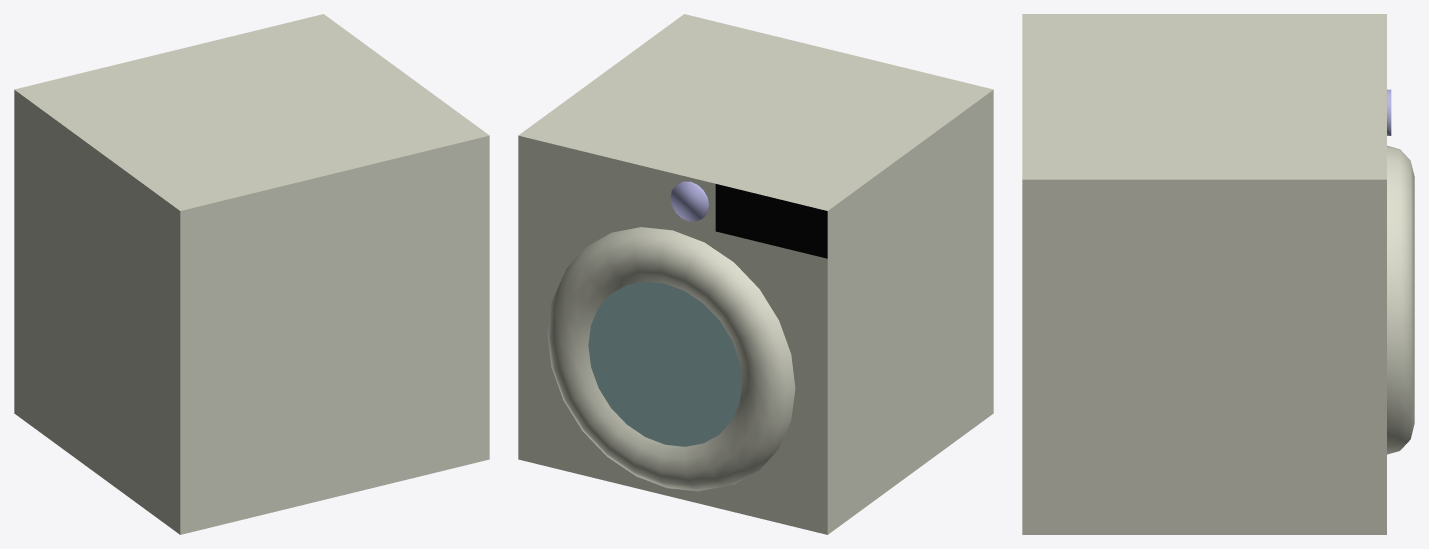
The model's file is WashingMachine.fbx.
The picture shows the model from 3 angles, left to right: view 1: azimuth 30°, elevation 25°; view 2: azimuth 150°, elevation 25°; view 3: azimuth 270°, elevation 25°; orthographic projection. The views are drawn at different scales.
Visible parts, largest first — view 1: WashingMachine; view 2: WashingMachine; view 3: WashingMachine.
Part boxes in pixels (x1,y1,x2,y2): WashingMachine: [14, 14, 489, 534]; WashingMachine: [518, 14, 993, 534]; WashingMachine: [1022, 14, 1414, 534].
Size of the model in its own units: 0.5 by 0.5 by 0.5.
